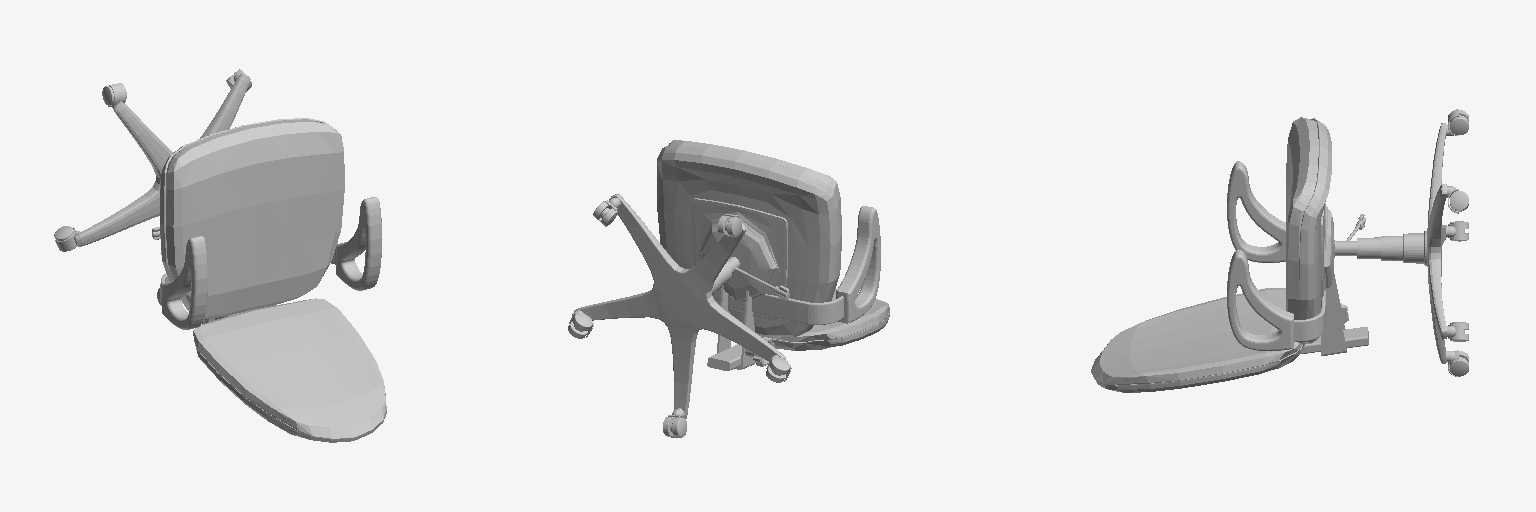
The model's file is Office chair.obj.
3 views of the same model, side by side, from view 1: azimuth 30°, elevation 25°; view 2: azimuth 150°, elevation 25°; view 3: azimuth 270°, elevation 25° (orthographic).
Bounding box in the file's own units: 41.23 × 42.15 × 60.62.